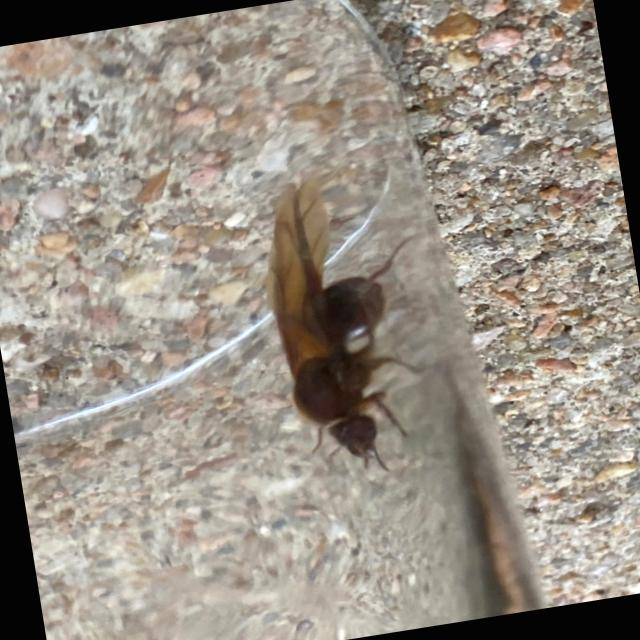Alive-Female-Alate: (250, 155, 468, 488)
